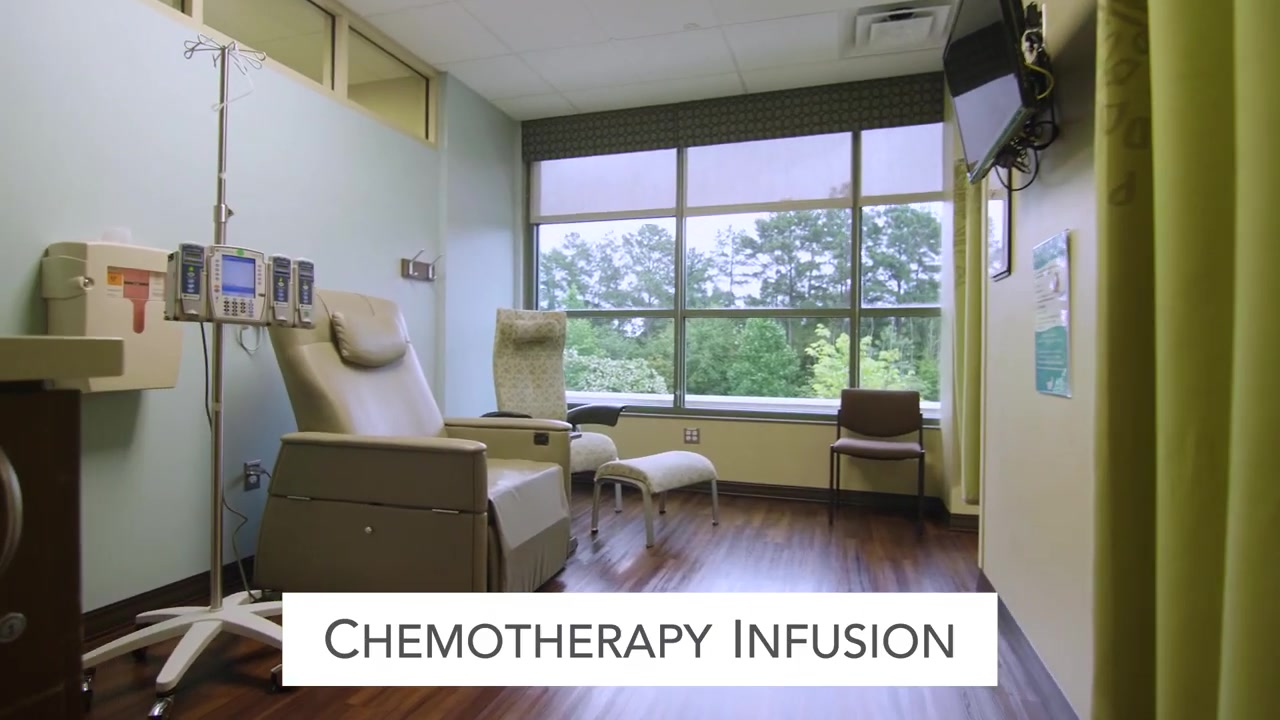TV: (940, 1, 1036, 184)
chair: (493, 308, 625, 513), (828, 388, 926, 535)
curtain: (1094, 1, 1280, 720), (949, 82, 980, 505)
infusion_pump: (166, 242, 316, 328)
iv_pole: (184, 33, 266, 611)
medical_waste_container: (42, 234, 179, 388)
sofa: (254, 291, 575, 613)
